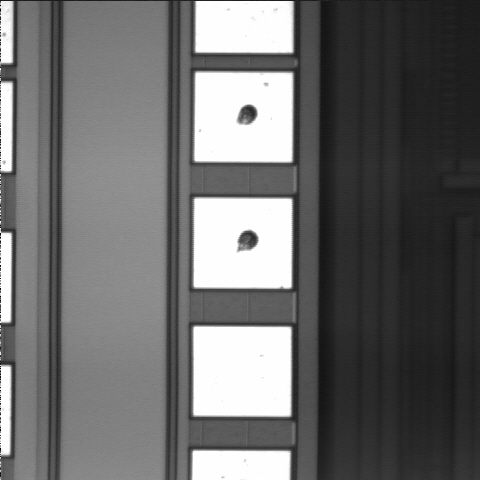pad: (194, 72, 293, 162), (194, 198, 292, 288), (193, 327, 291, 416)
